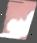dent: (0, 0, 36, 40)
